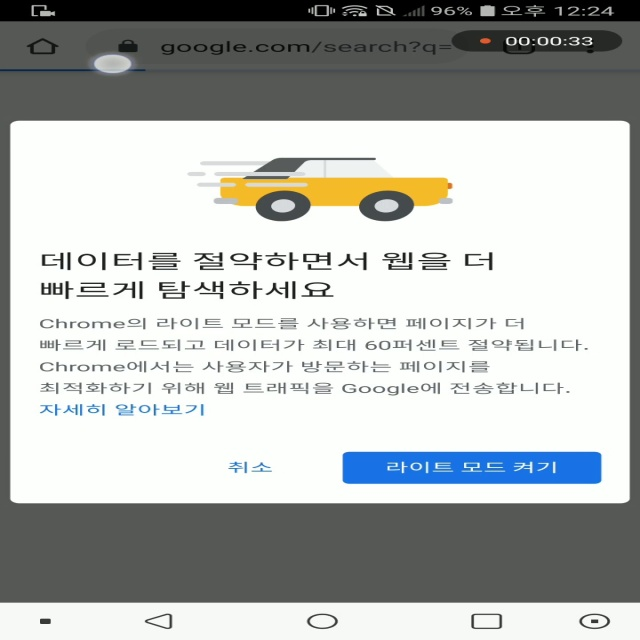Cursor: (91, 53, 136, 76)
